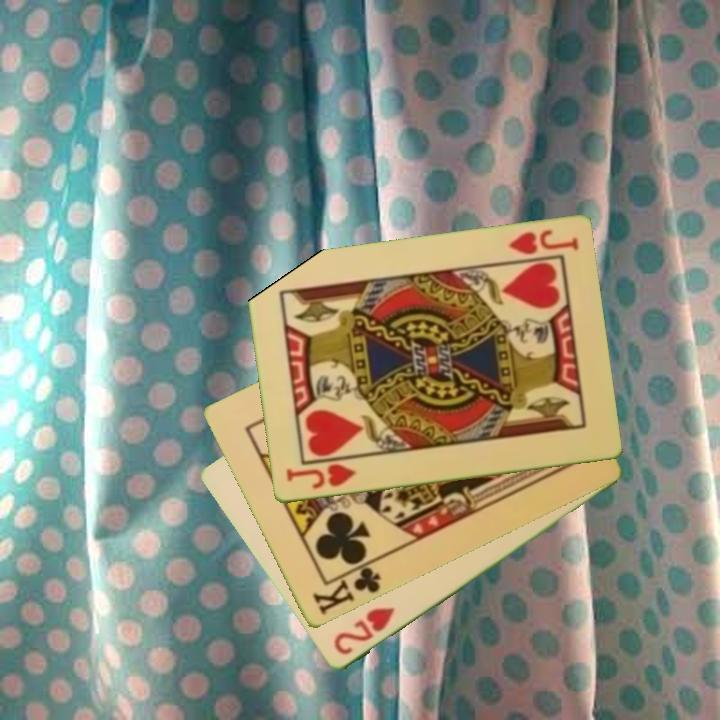2h: (330, 604, 399, 659)
Jh: (282, 461, 359, 493), (505, 227, 582, 258)
Kc: (309, 557, 384, 619)
